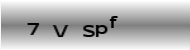7: (26, 21, 40, 36)
S: (82, 23, 96, 37)
V: (52, 23, 69, 37)
f: (110, 14, 118, 28)
p: (95, 23, 108, 37)
